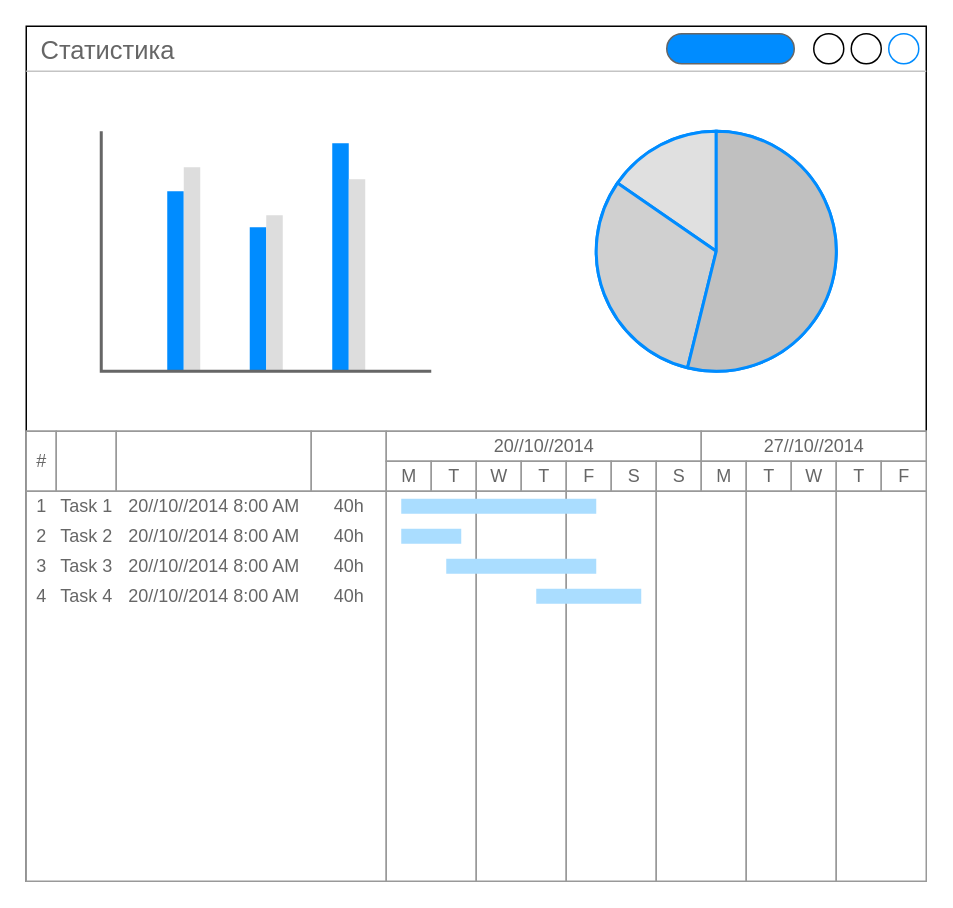
This 953x908 diagram has some shape labels left out. The centre of each missing label's shape, as x and y in pixels:
"Effort" goes at pixel 348 460.
"Start" goes at pixel 213 460.
"Task" goes at pixel 85 460.
"Назад" goes at pixel 729 48.
